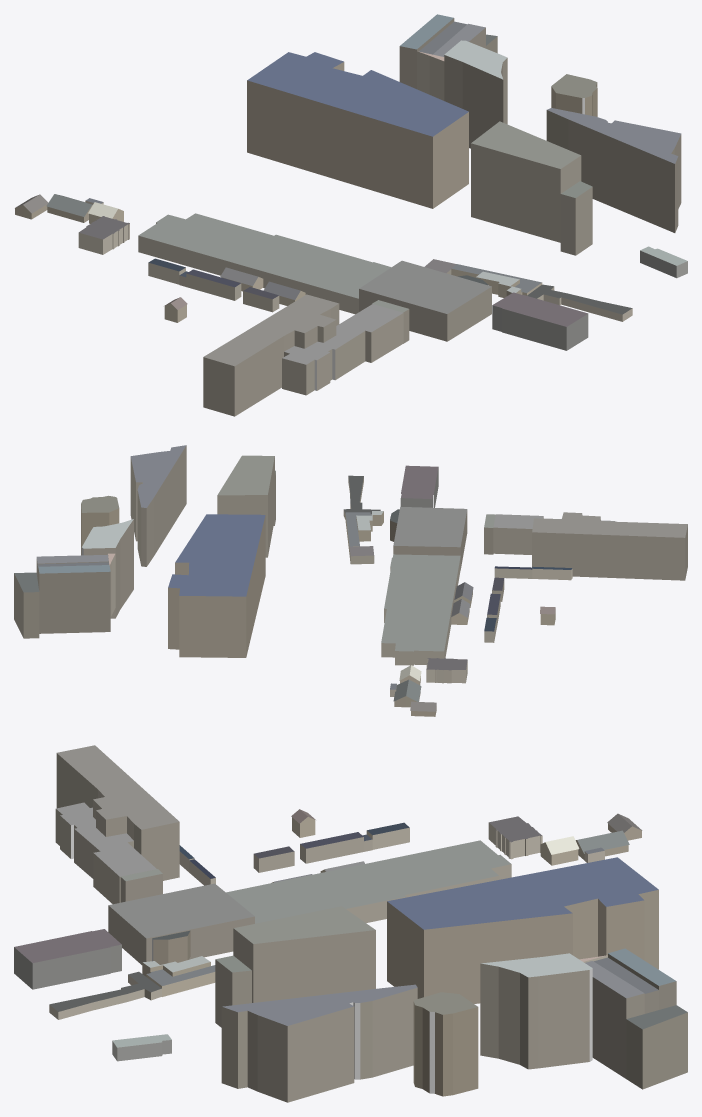
3 renders of one model, top to bottom at view 1: azimuth 30°, elevation 25°; view 2: azimuth 150°, elevation 25°; view 3: azimuth 270°, elevation 25°, orthographic. The views are drawn at different scales.
Visible parts, largest first — view 1: tuile; view 2: tuile; view 3: tuile.
Boxes of the visible parts, left/top/right/bottom form: tuile: left=15, top=14, right=687, bottom=416; tuile: left=14, top=445, right=687, bottom=716; tuile: left=14, top=745, right=687, bottom=1102.
Bounding box in the file's own units: 304 × 46.38 × 283.
